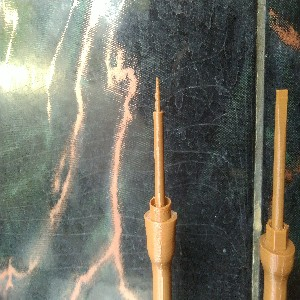obeng: (258, 88, 297, 300)
solder: (143, 75, 178, 300)
